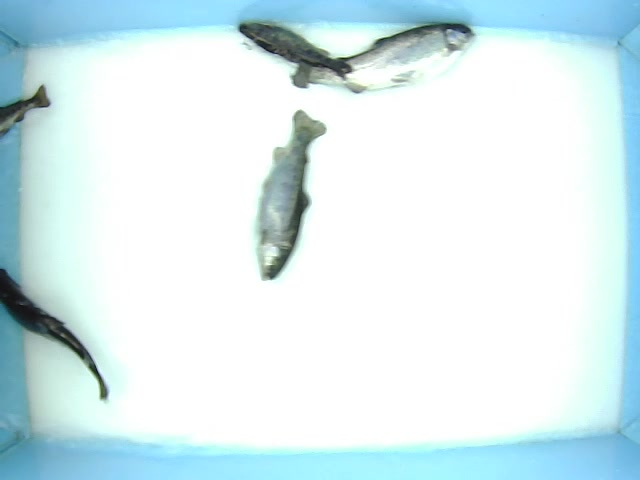fish: (1, 268, 111, 401), (290, 21, 479, 95), (255, 107, 327, 282), (231, 17, 354, 78)
